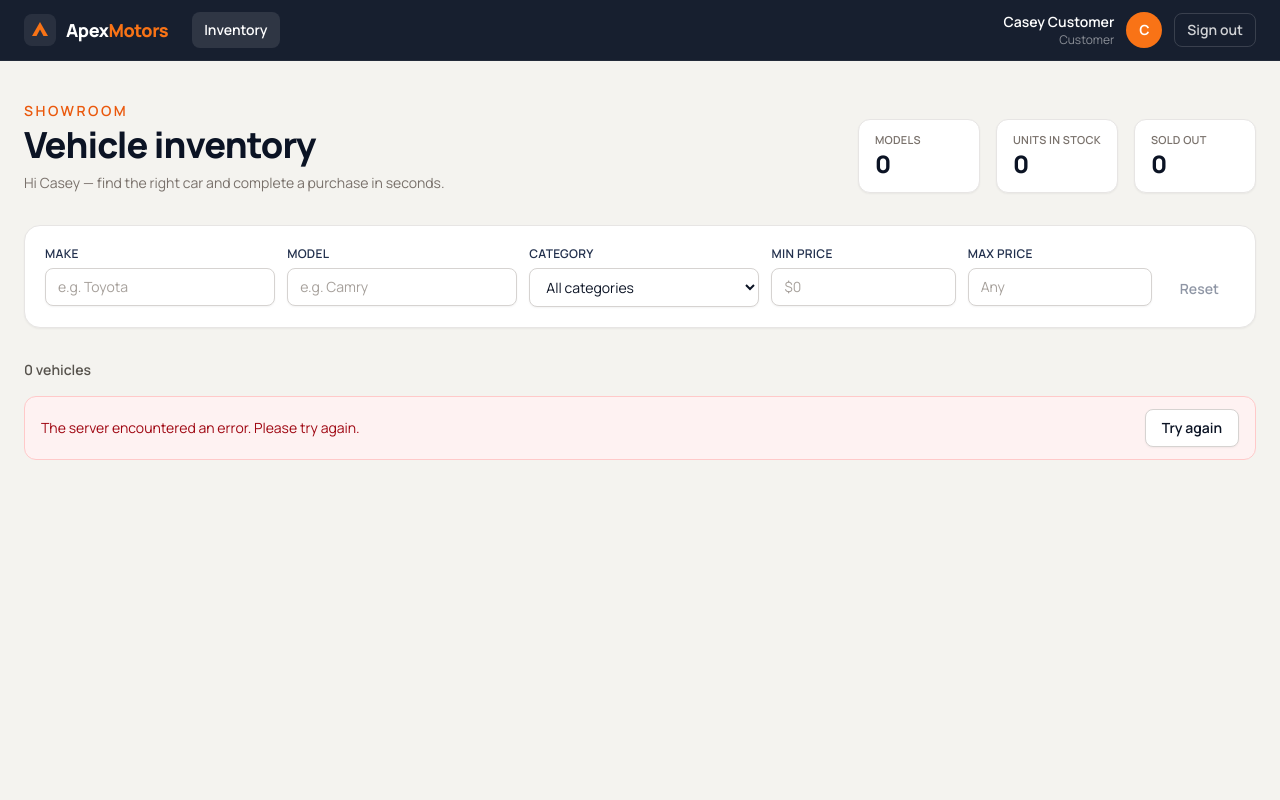
Inventory page › shows an error with retry when loading fails
Expected: the message shows "server encountered an error", x1=41 y1=418 x2=360 y2=437
Click the button "Try again".
click(1192, 428)  # box x1=1145 y1=409 x2=1239 y2=447
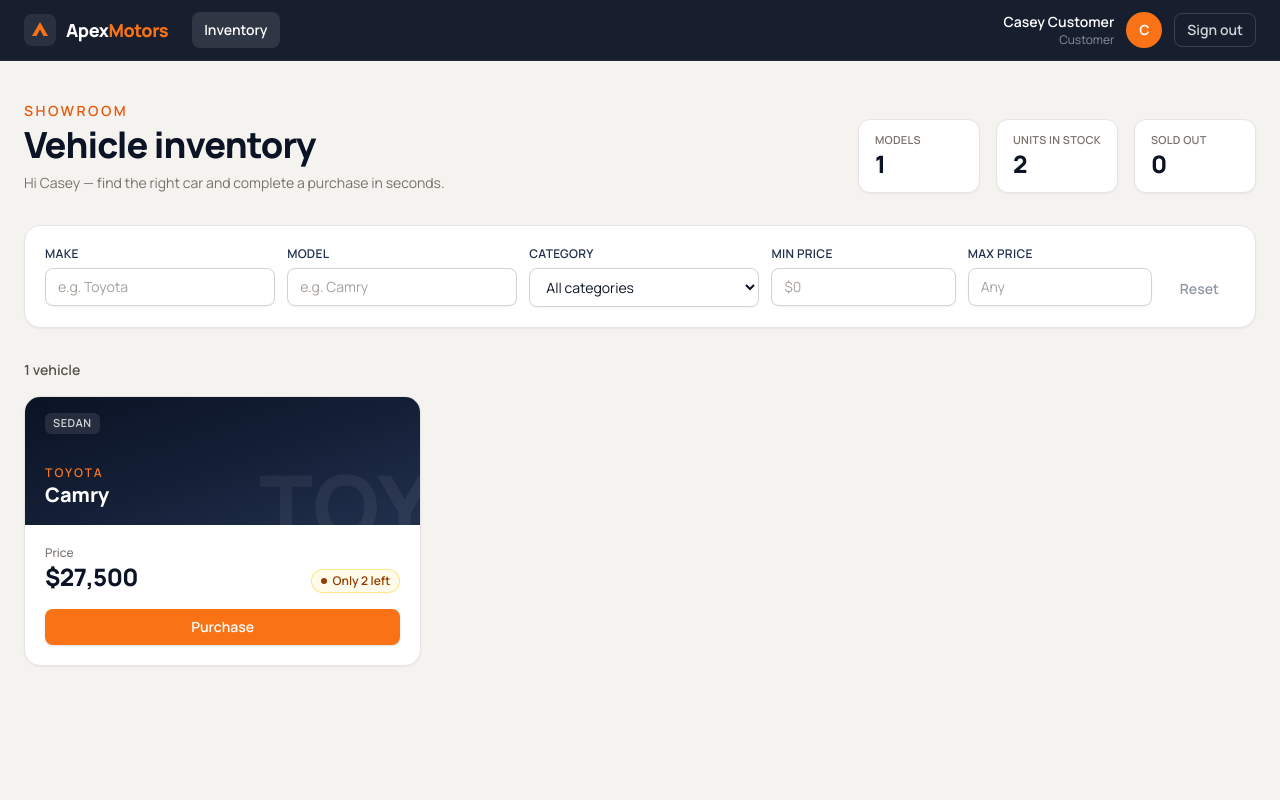
Expected: the element "Toyota Camry" is shown, x1=24 y1=396 x2=421 y2=666
